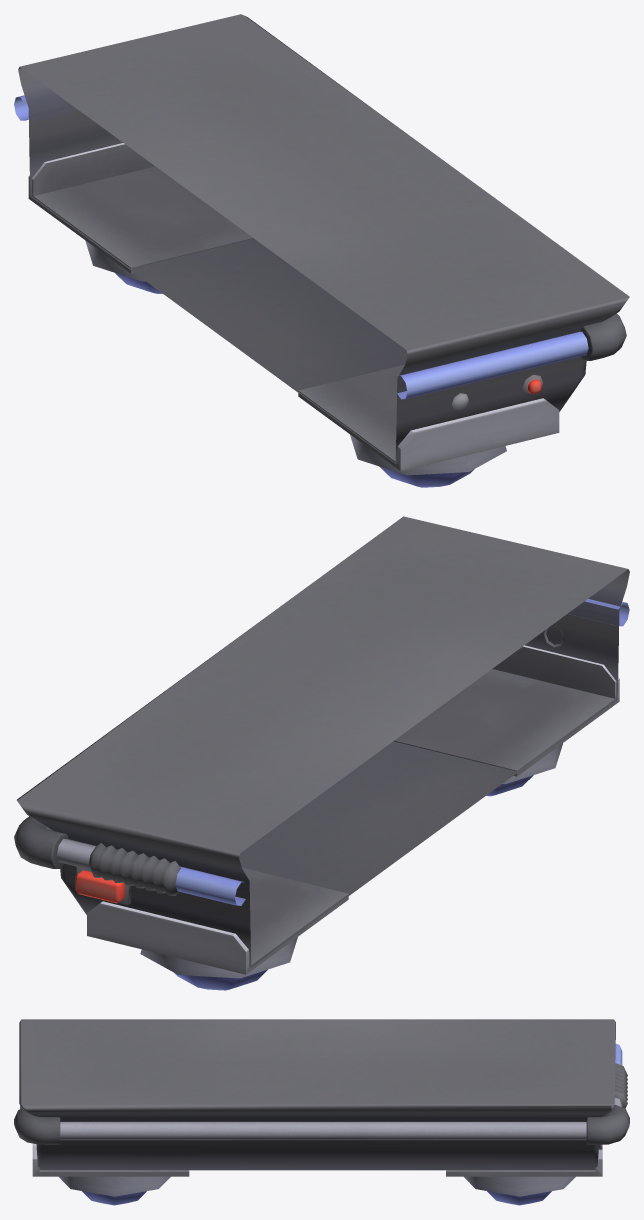
Rendered from Space_MovingPlatRight_Vert.fbx.
The picture shows the model from 3 angles, top to bottom: view 1: azimuth 30°, elevation 25°; view 2: azimuth 150°, elevation 25°; view 3: azimuth 270°, elevation 25°; orthographic projection. The views are drawn at different scales.
Parts seen in each view (by area): view 1: polySurface738; view 2: polySurface738; view 3: polySurface738.
Part boxes in pixels (bbox=[...]): polySurface738: bbox=[14, 14, 629, 487]; polySurface738: bbox=[14, 516, 629, 990]; polySurface738: bbox=[14, 1019, 629, 1205].
Bounding box in the file's own units: 103 × 83.83 × 312.
